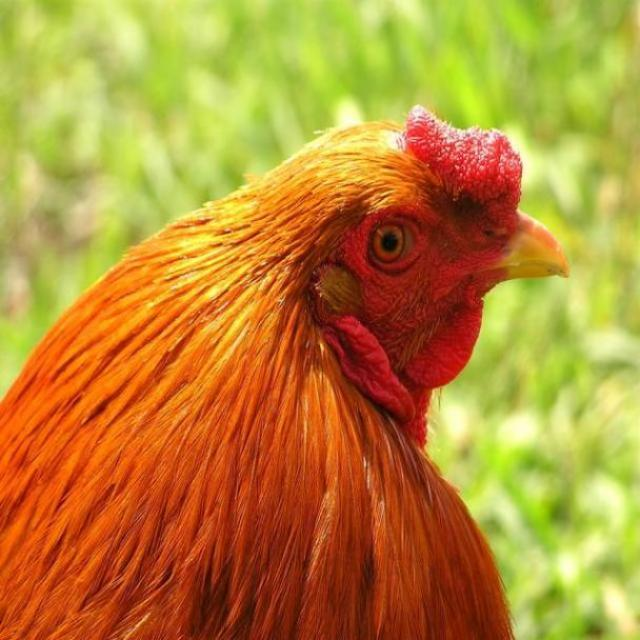Chicken: (0, 107, 572, 639)
